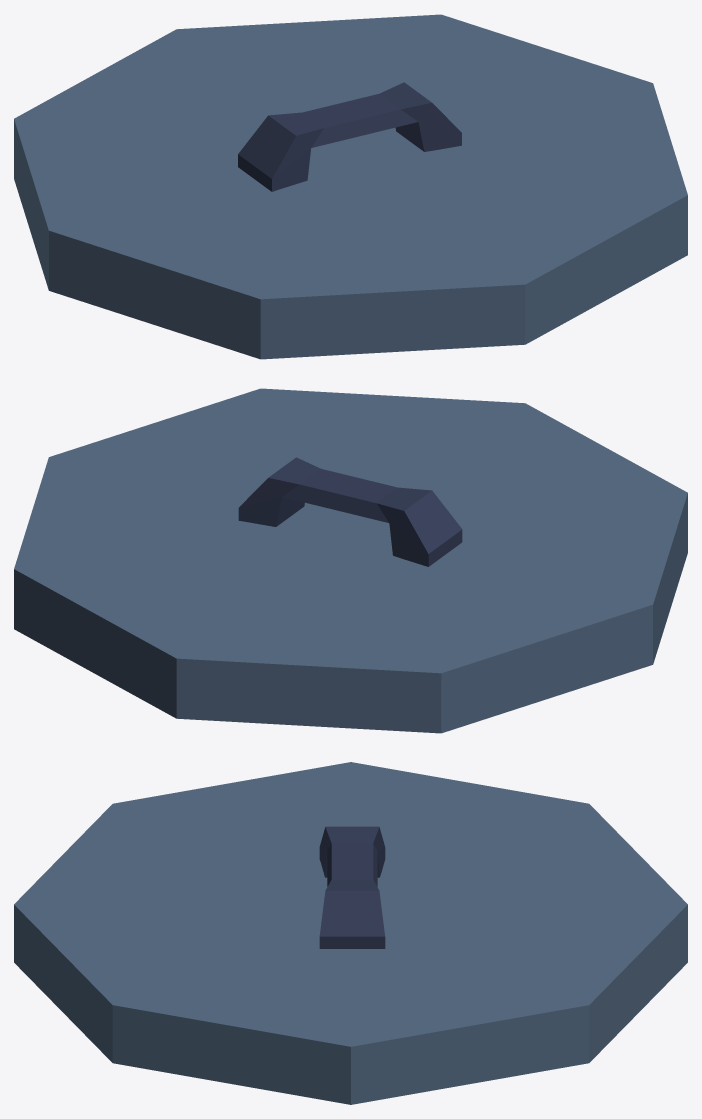
File: Band_TrashDrum_Lid.fbx
3 views of the same model, one above another, from view 1: azimuth 30°, elevation 25°; view 2: azimuth 150°, elevation 25°; view 3: azimuth 270°, elevation 25° (orthographic). The views are drawn at different scales.
Visible parts, largest first — view 1: Cylinder.199; view 2: Cylinder.199; view 3: Cylinder.199.
Boxes of the visible parts, x1,y1,x2,y2 form: Cylinder.199: (14,14,687,359); Cylinder.199: (14,388,687,733); Cylinder.199: (14,762,687,1104).
Bounding box in the file's own units: 52.19 × 8.87 × 52.19.
